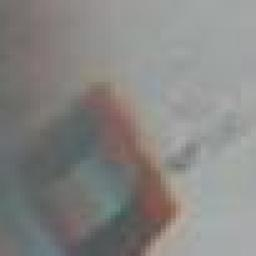crystals: (6, 84, 184, 253)
